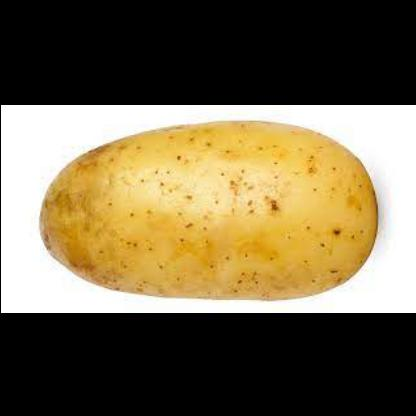potato: (40, 121, 376, 301)
